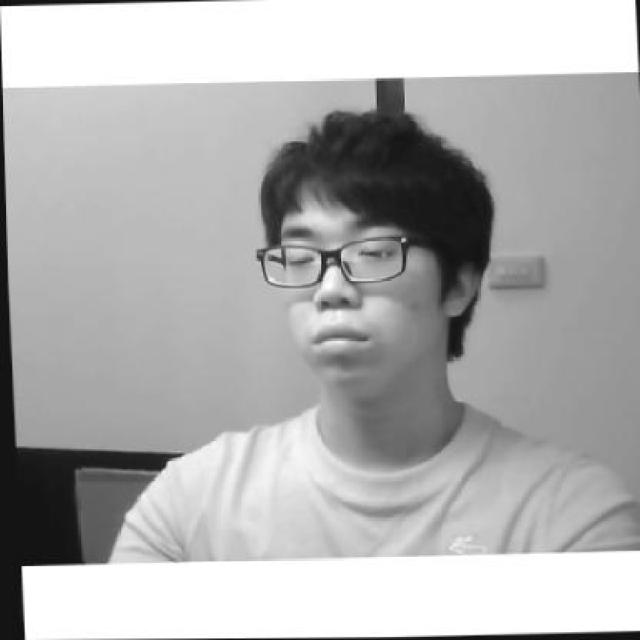inattentif: (248, 103, 484, 395)
